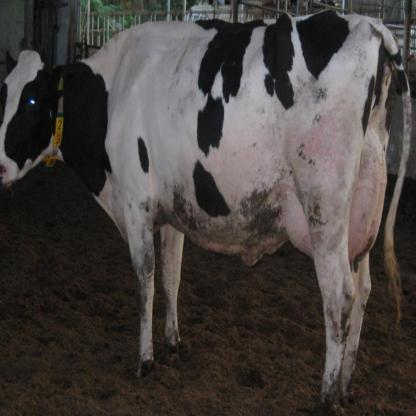cow: (0, 12, 412, 404)
